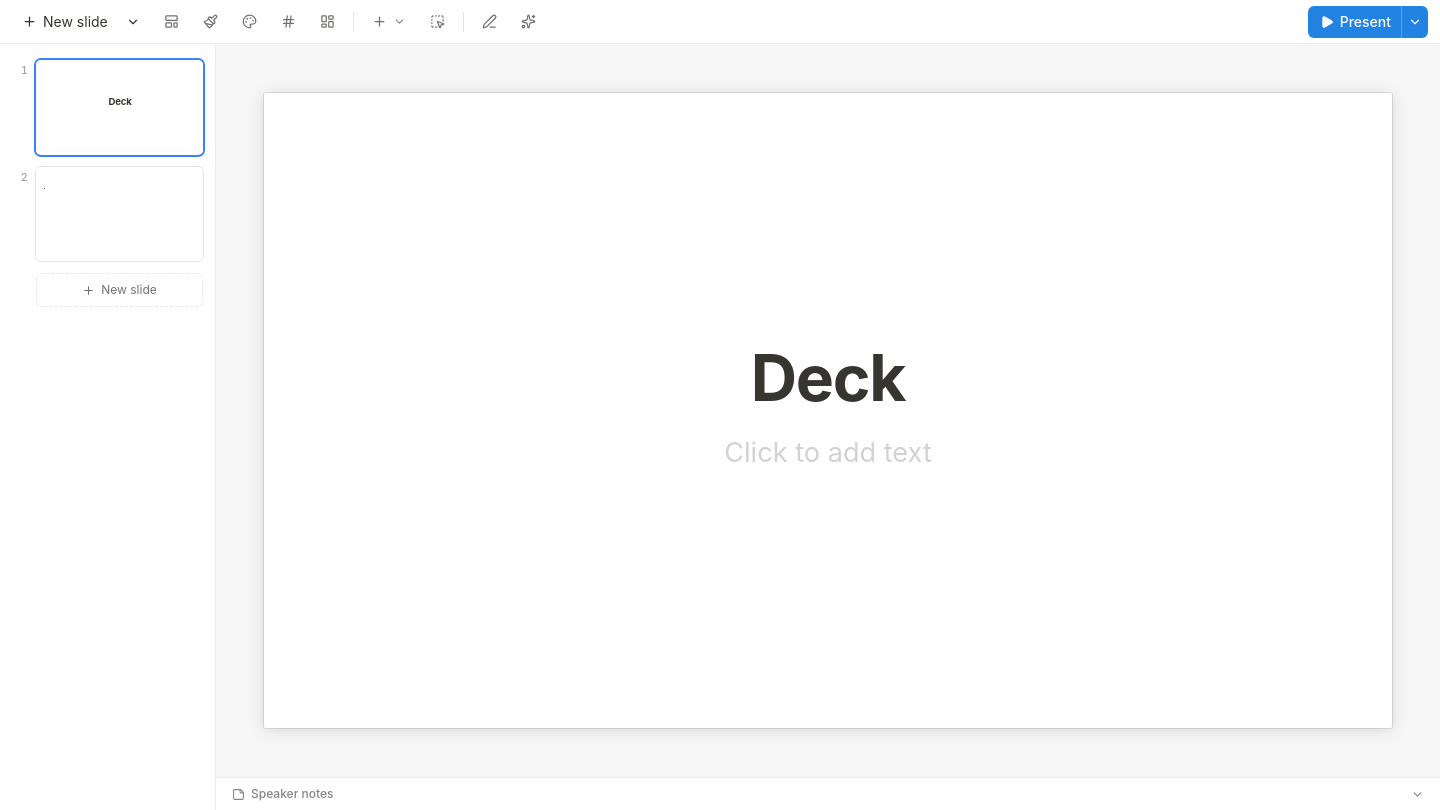
Test: footer editing and slide master in the editor › the footer text is edited by clicking it on the slide (all slides)
The width and height of the screenshot is (1440, 810).
Expected: the list named "Slides" is shown, [0,44,216,809]
Press the mouse on the option "2" at point(108, 214), box [12,166,203,261]
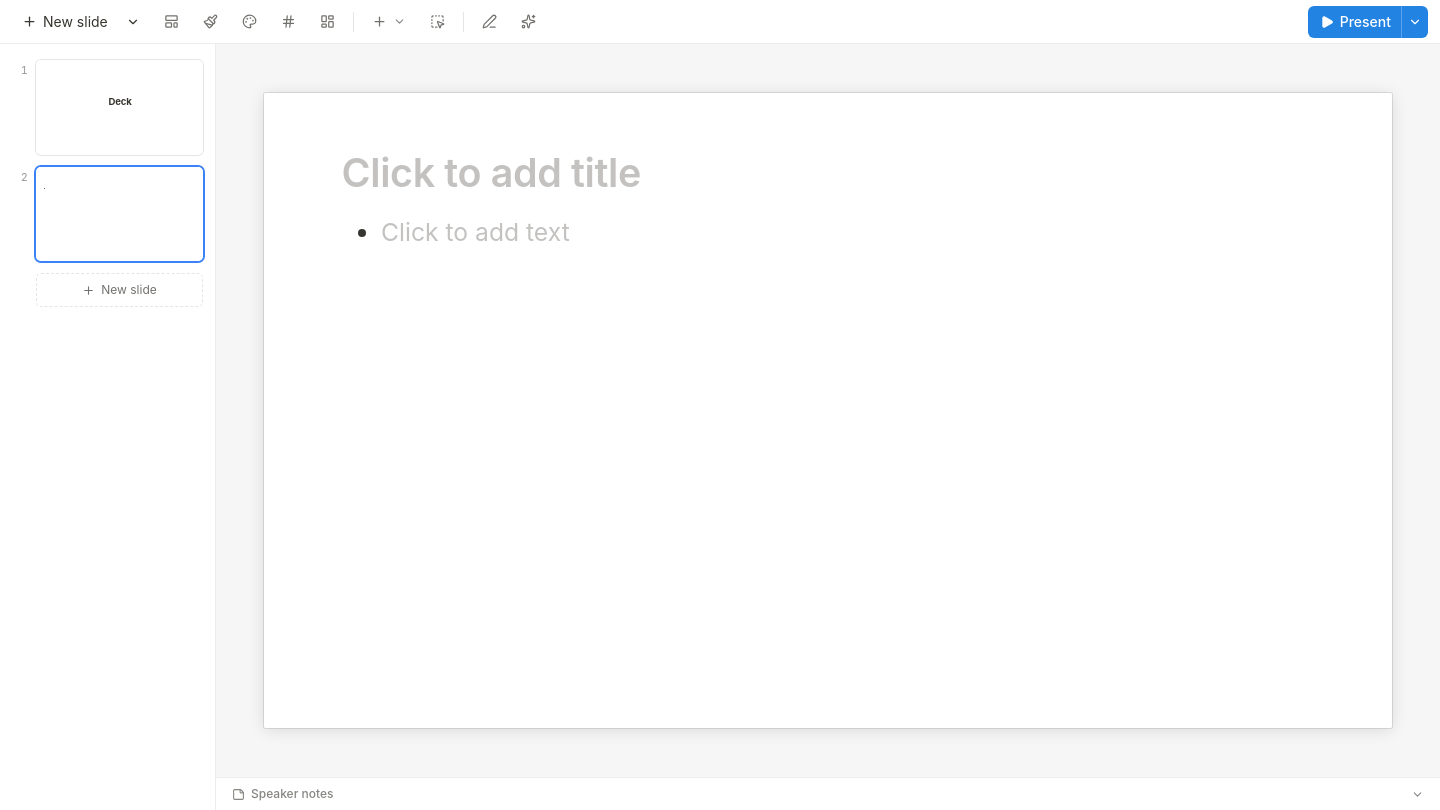
Click the button named "Footer" at point(288, 22), box [271,6,306,38]
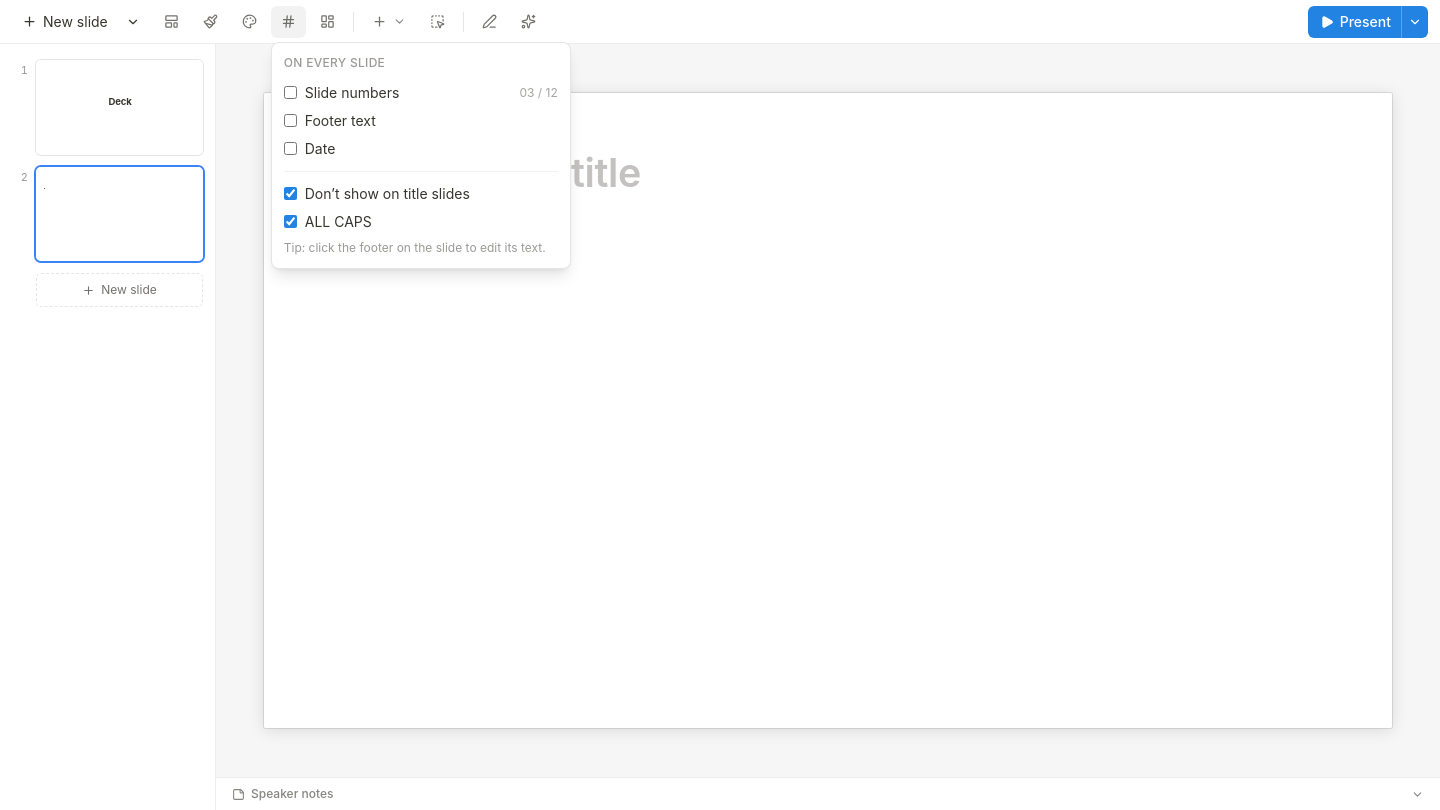
Click the checkbox labelled "Slide numbers 03 / 12" at point(290, 92), box [284,86,297,99]
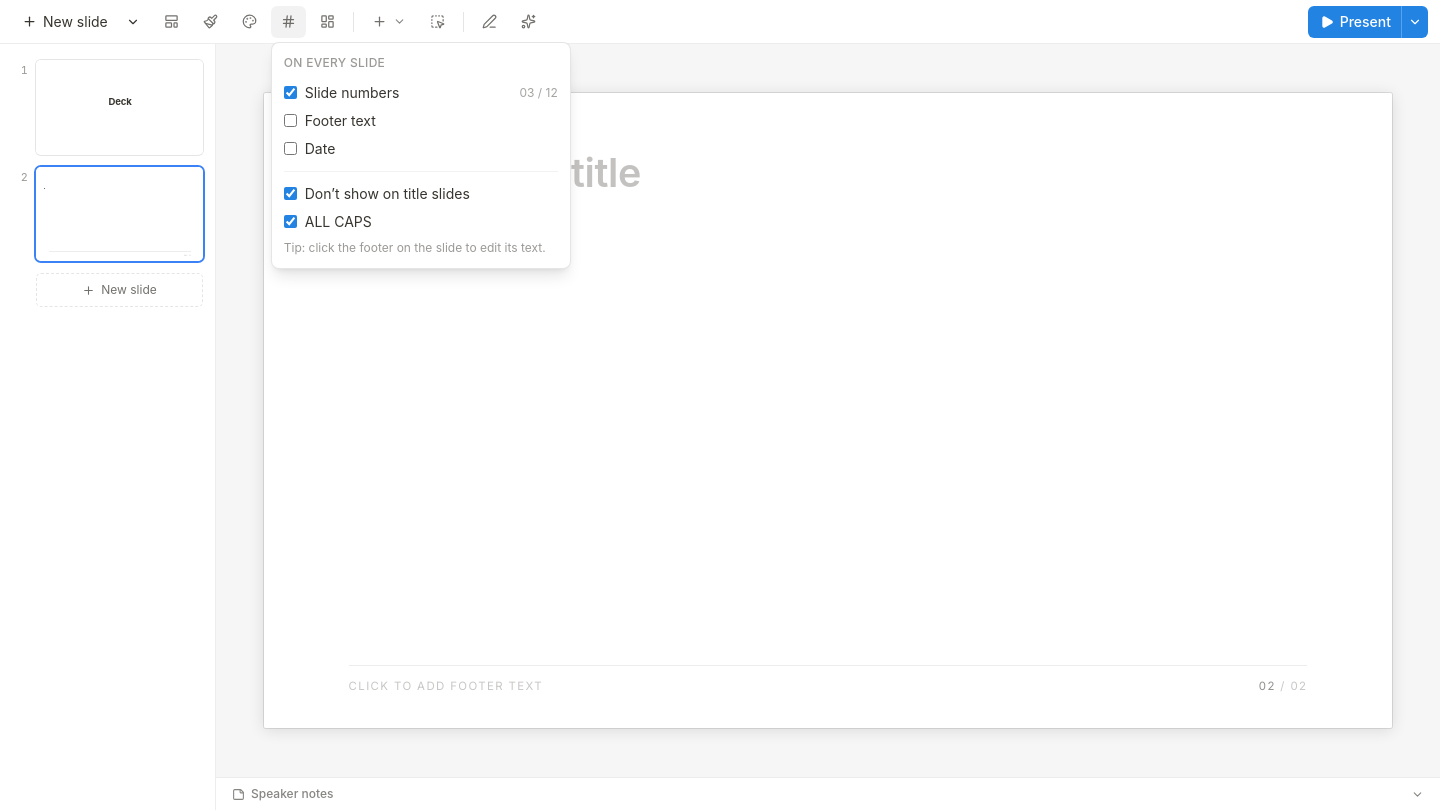
Click the checkbox labelled "ALL CAPS" at point(290, 222), box [284,215,297,228]
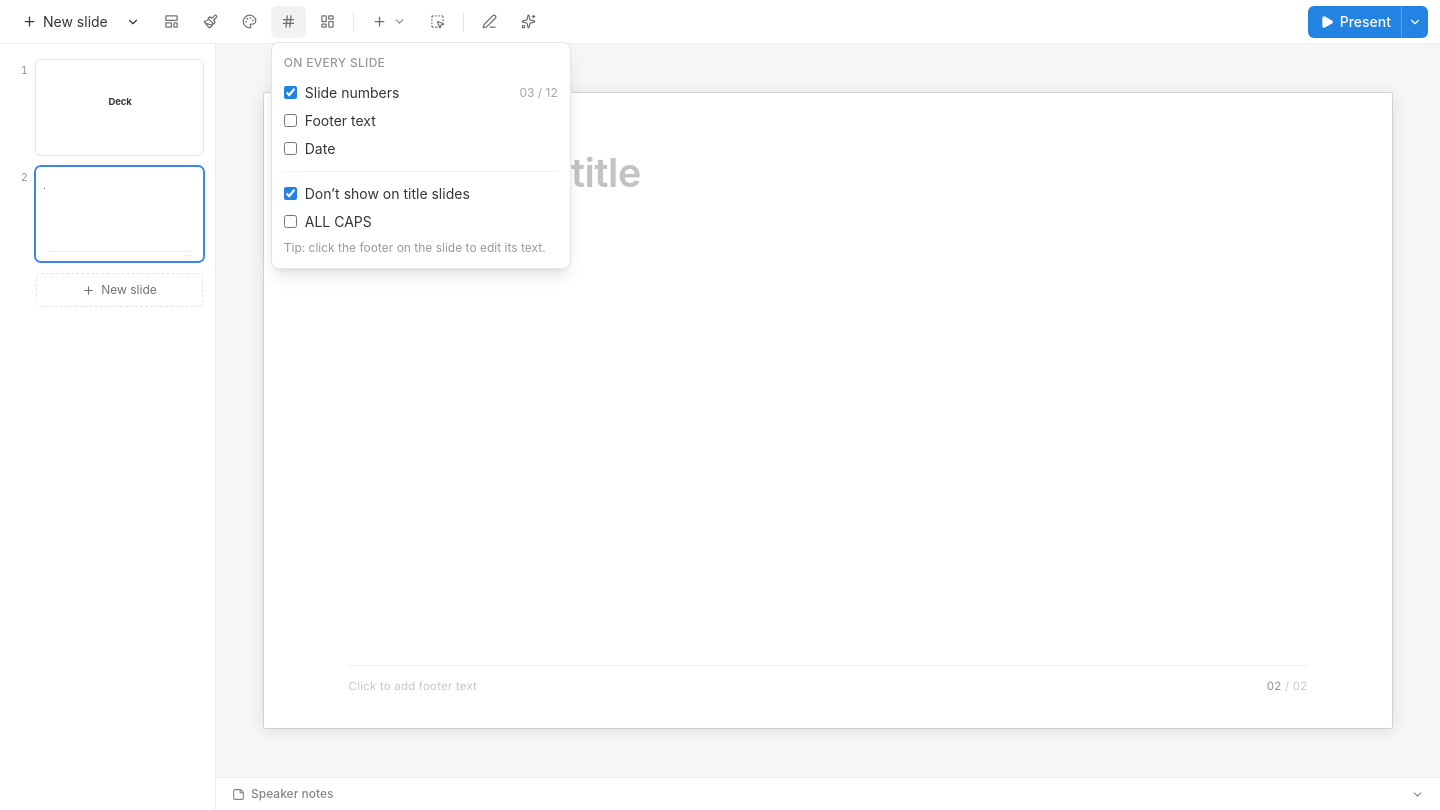
Now the element with test id "slide-footer" has class "slide-footer-plain", box [349,665,1307,692]
Click the button titled "Click to edit the footer" at point(413, 686), box [343,677,482,694]
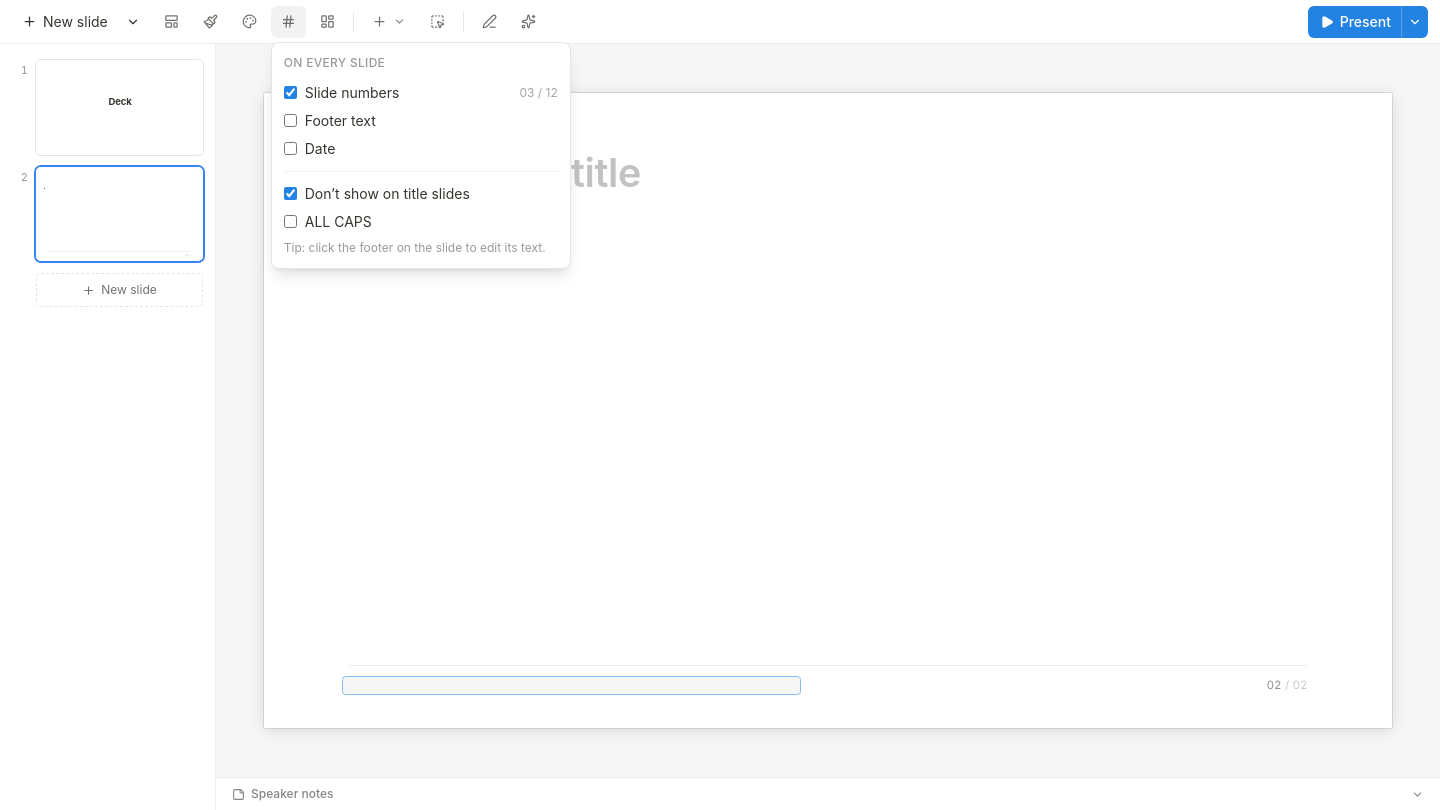
Type "ACME Motors — Confidential" into the field named "Footer text" at point(572, 685), box [342,676,801,695]
Press Enter in the field named "Footer text", box [342,676,801,695]
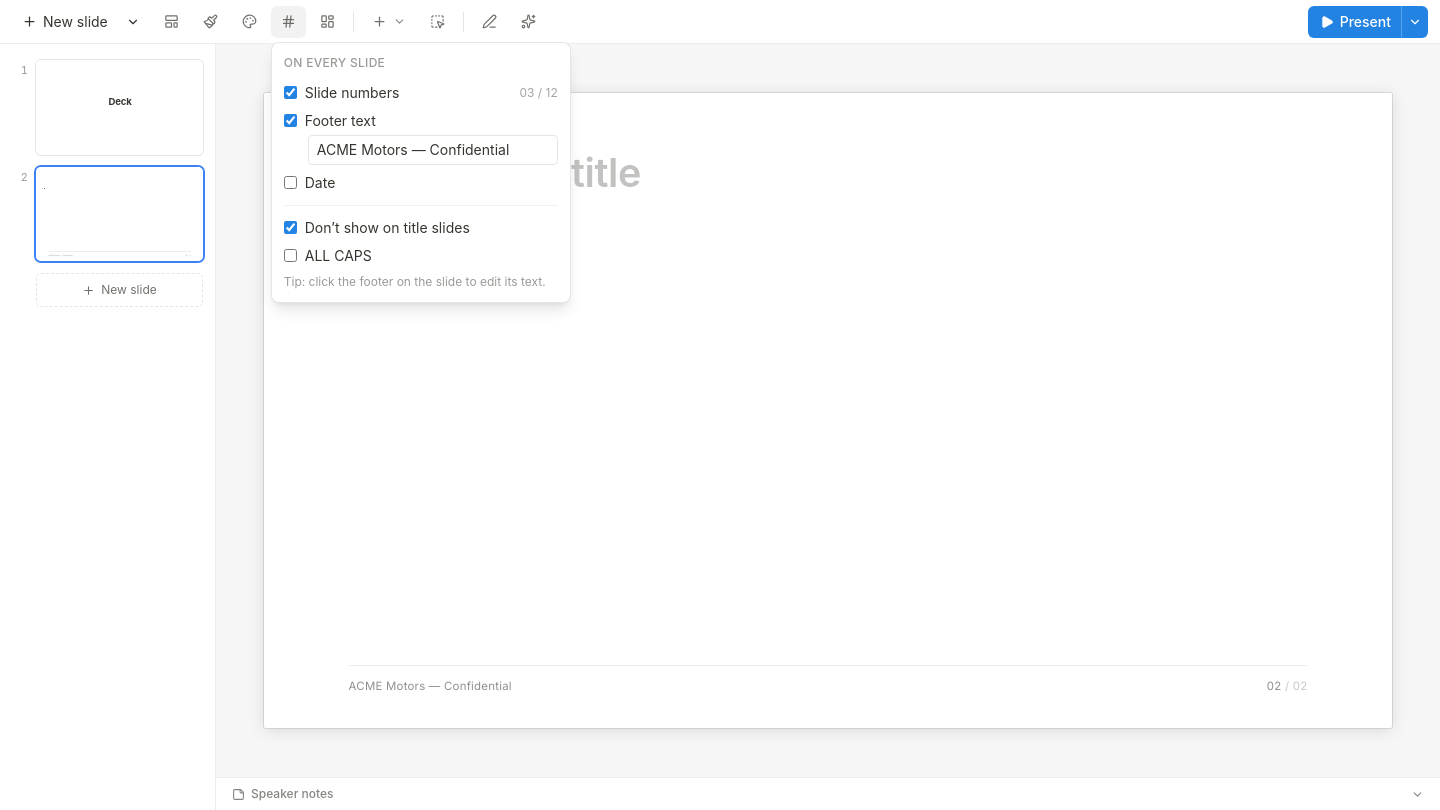
Now the element with test id "slide-footer" shows "ACME Motors — Confidential", box [49,254,73,256]
